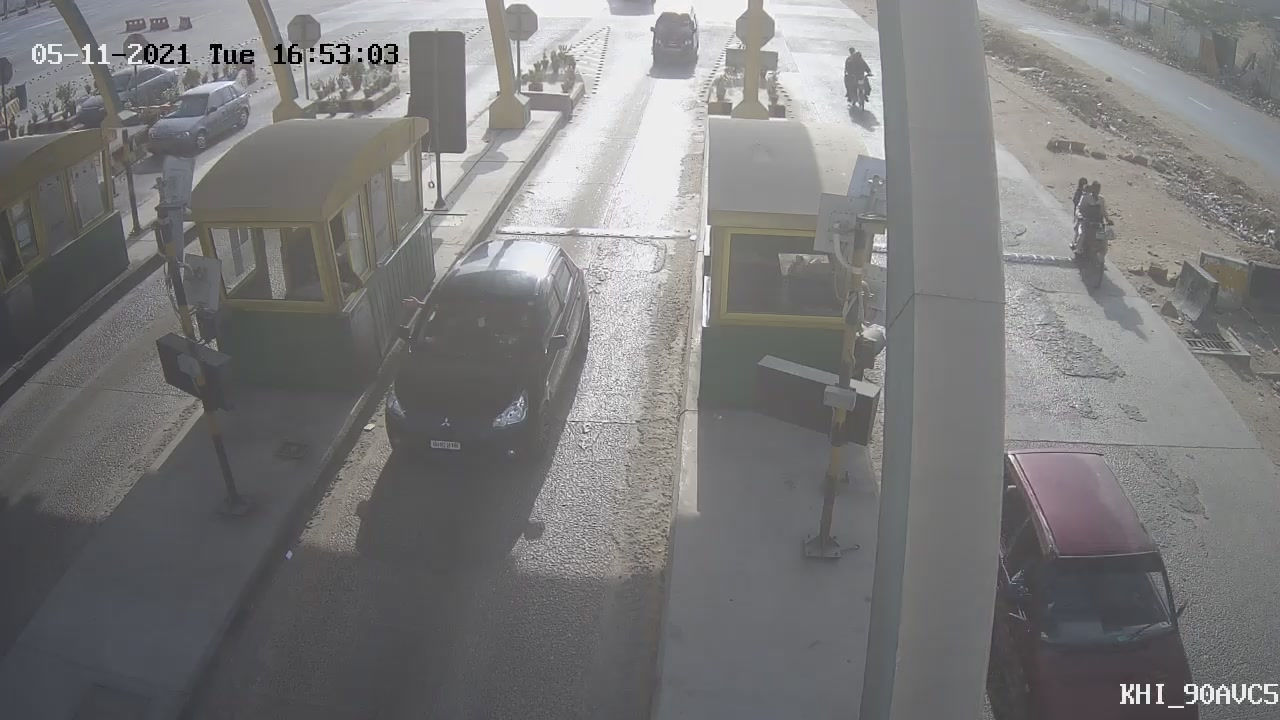F1: (351, 214, 616, 494)
